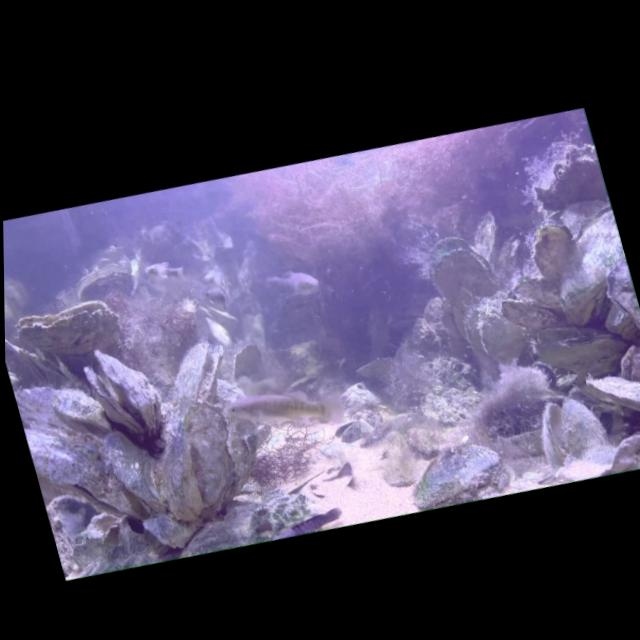Oyster-Closed: (537, 197, 640, 332), (11, 289, 123, 362), (176, 395, 246, 510), (141, 407, 210, 523), (533, 318, 636, 395), (5, 322, 73, 403), (523, 215, 585, 290), (583, 358, 640, 431)
Oyster-Indeterminate: (23, 403, 148, 543), (208, 369, 277, 485), (98, 421, 171, 525), (43, 486, 110, 575), (48, 377, 112, 447), (496, 285, 562, 342), (468, 207, 508, 267)
Oyster-Open: (77, 335, 170, 454), (530, 387, 615, 482), (160, 332, 239, 415), (418, 227, 486, 311), (69, 254, 139, 311), (331, 415, 371, 448)
